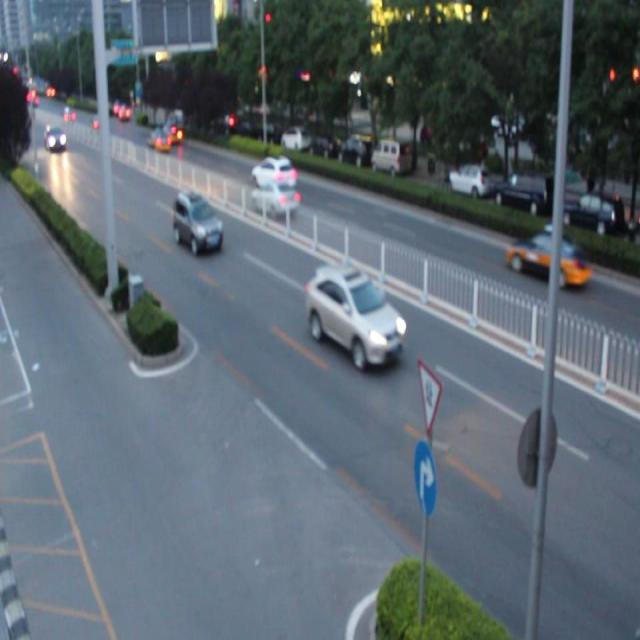car: (308, 261, 404, 361), (510, 229, 588, 289), (173, 192, 223, 252), (252, 181, 300, 215), (254, 158, 295, 190), (148, 127, 171, 153), (158, 124, 183, 144)
